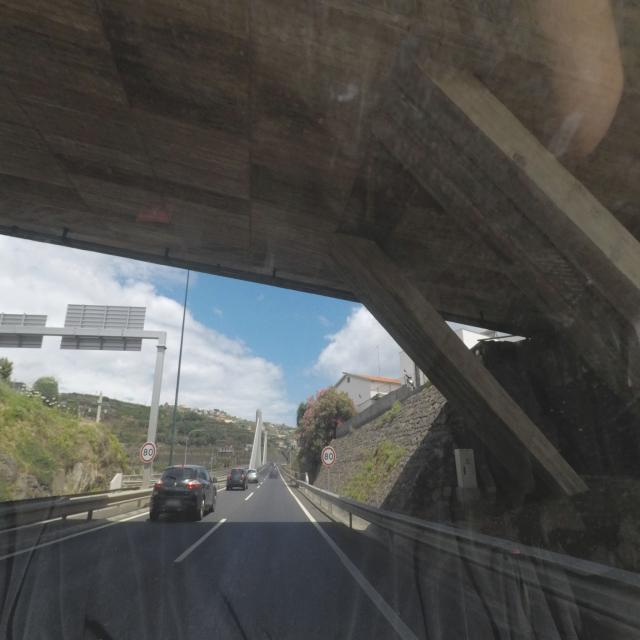car: (149, 463, 217, 520), (226, 467, 248, 491), (246, 469, 258, 483)
